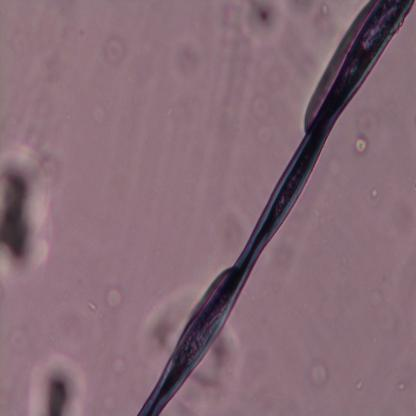Background material: (0, 139, 55, 279), (133, 283, 196, 368), (27, 351, 84, 415), (190, 340, 241, 410), (244, 0, 288, 48), (162, 32, 200, 86), (251, 92, 276, 144), (99, 29, 130, 68), (305, 352, 332, 392), (86, 93, 112, 124), (350, 133, 369, 158), (108, 283, 124, 312), (116, 358, 127, 376), (318, 3, 330, 18), (87, 299, 97, 316), (397, 381, 407, 395), (369, 186, 379, 199), (356, 378, 364, 392)
Cotton: (139, 1, 414, 415)
